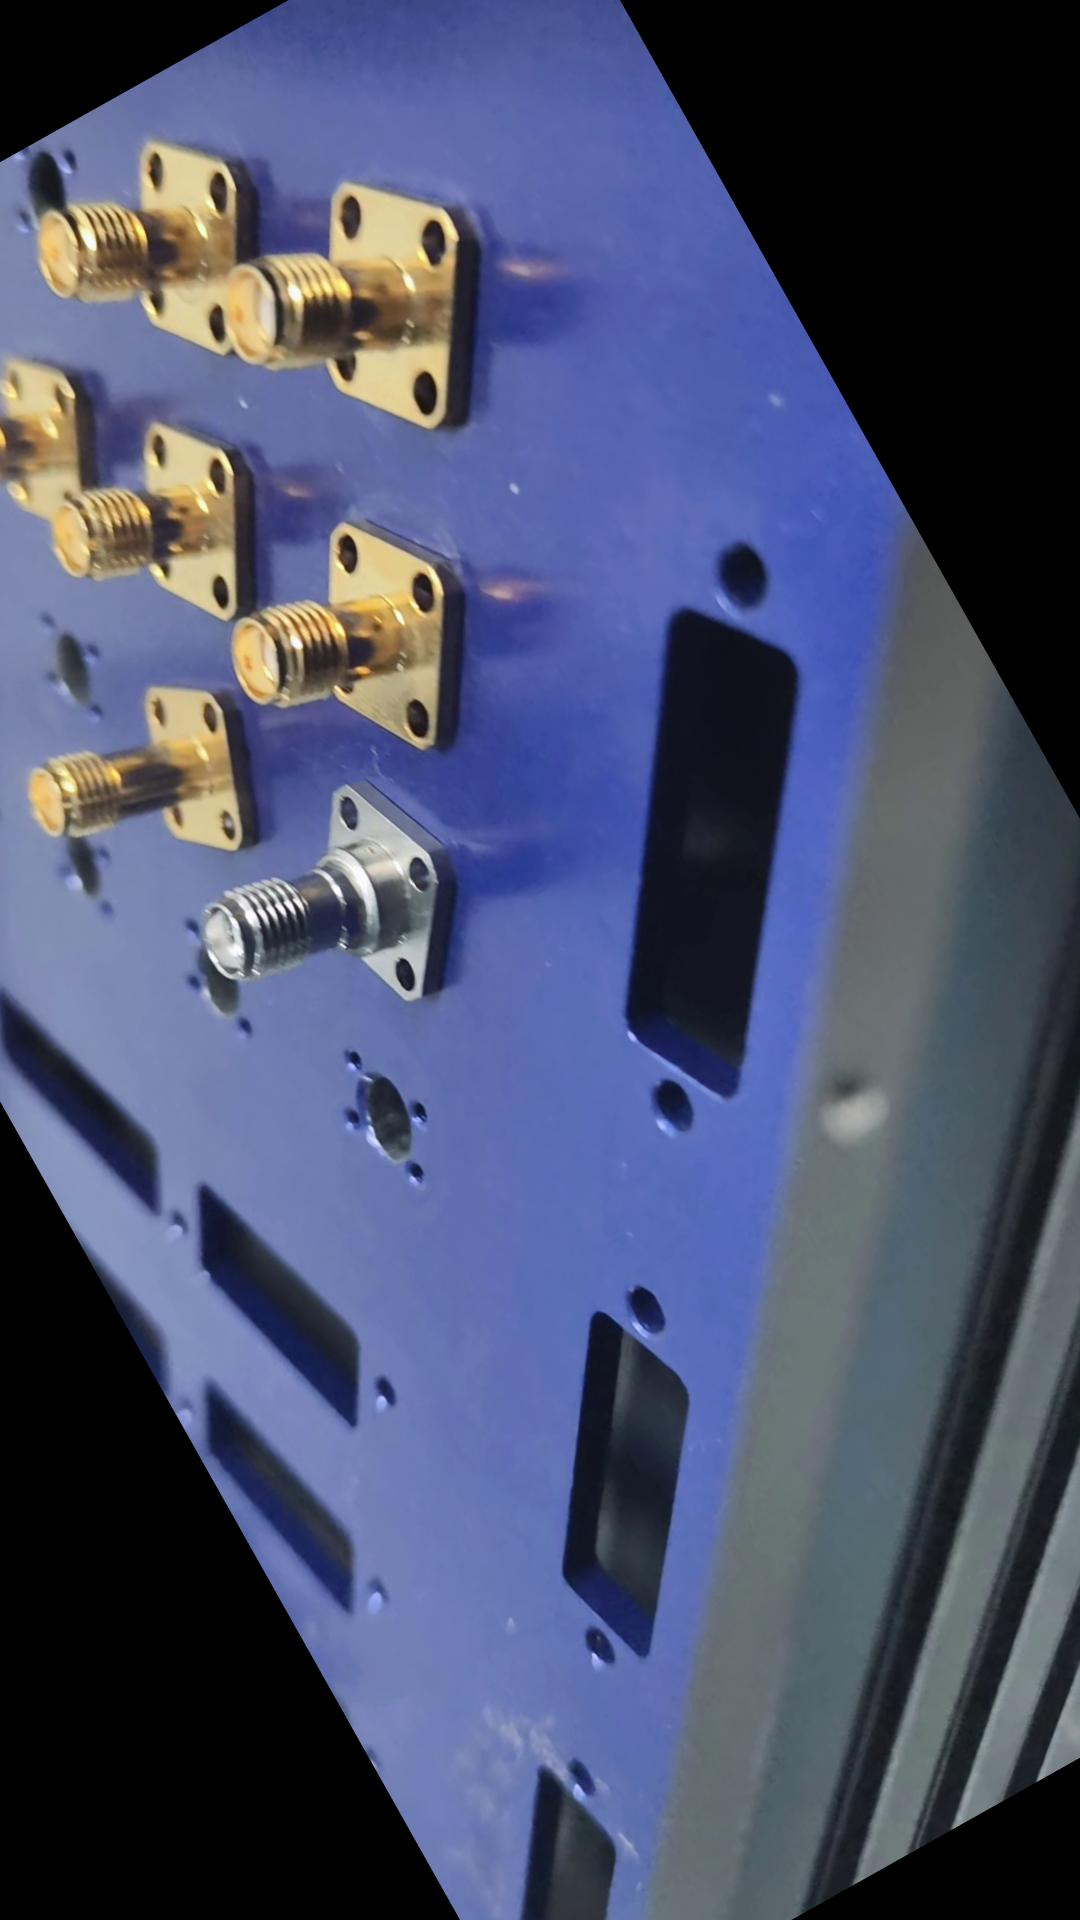SMA: (185, 142, 538, 501), (157, 742, 502, 1083), (183, 468, 520, 818), (5, 377, 307, 691)
